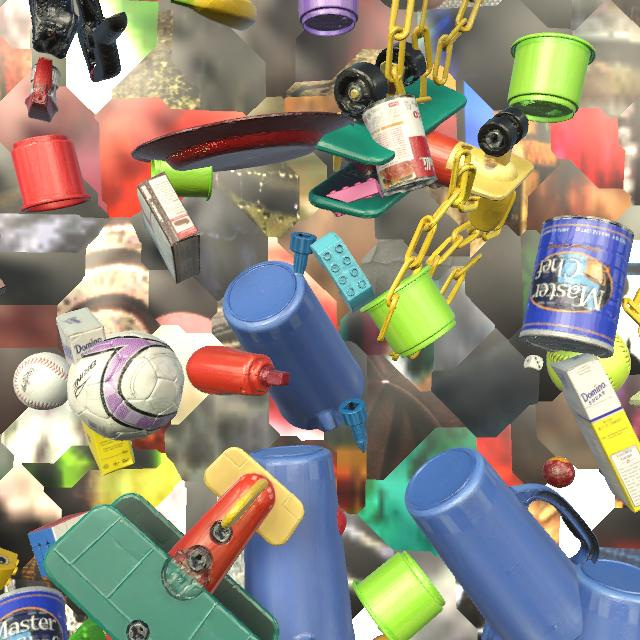ycb_002_master_chef_can: (519, 215, 634, 358), (0, 586, 68, 640)
ycb_004_sugar_box: (549, 353, 640, 513), (56, 307, 135, 476)
ycb_005_tomato_soup_can: (362, 94, 437, 196)
ycb_008_pudding_box: (137, 171, 201, 284)
ycb_011_banana: (170, 0, 257, 31)
ycb_012_strawberry: (337, 505, 347, 535)
ycb_015_peach: (373, 634, 388, 640)
